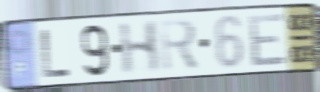6: (213, 12, 247, 72)
9: (80, 23, 110, 78)
E: (248, 11, 289, 69)
H: (117, 18, 161, 78)
L: (39, 27, 73, 80)
R: (158, 17, 201, 75)
